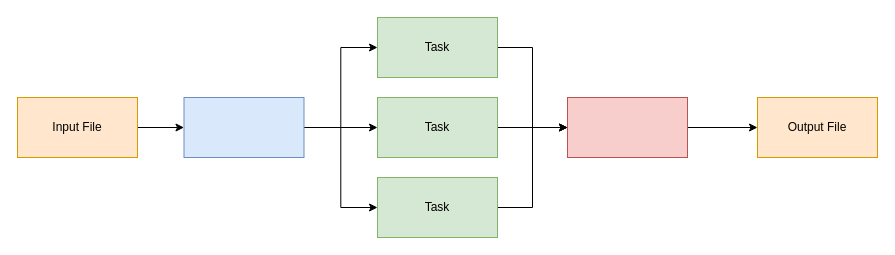
This 895x255 diagram has some shape labels left out. The shapes that lost their labels are listed below. From the top down, each one's centre as x and y in pixels, then its label:
[243,127]: Map (Split) Function
[627,127]: Reduce (Summarizing result)
